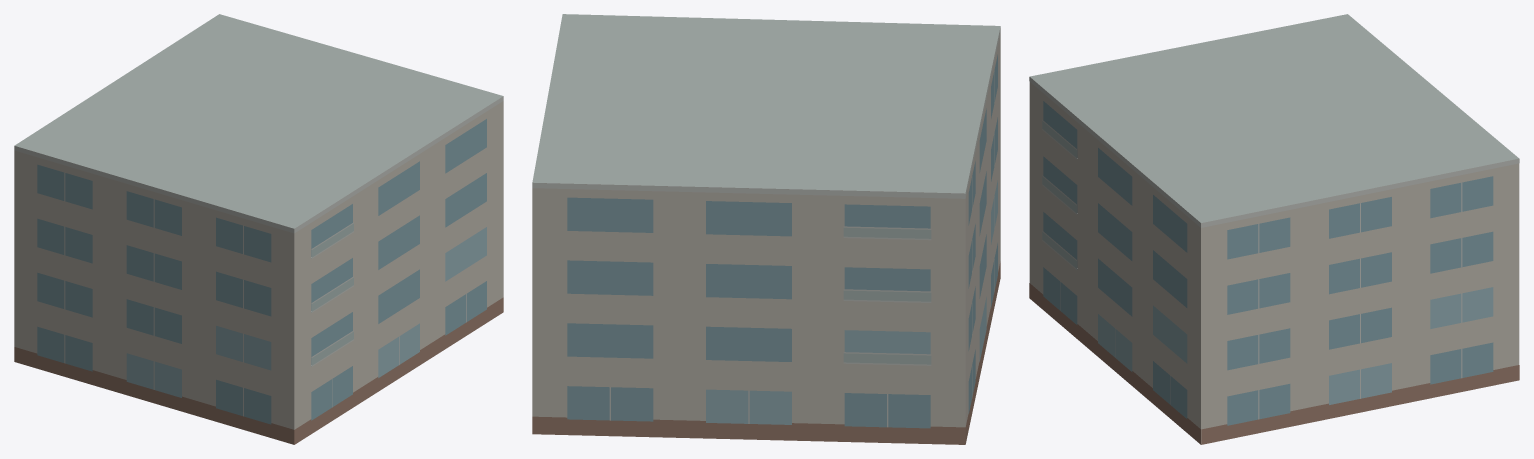
The model's file is survey-upis-32800758.glb.
The picture shows the model from 3 angles, left to right: view 1: azimuth 30°, elevation 25°; view 2: azimuth 150°, elevation 25°; view 3: azimuth 270°, elevation 25°; orthographic projection. The views are drawn at different scales.
Parts seen in each view (by area): view 1: survey-upis-32800758.tmp; view 2: survey-upis-32800758.tmp; view 3: survey-upis-32800758.tmp.
Part boxes in pixels (x1,y1,x2,y2): survey-upis-32800758.tmp: (14, 14, 503, 444); survey-upis-32800758.tmp: (532, 14, 1000, 444); survey-upis-32800758.tmp: (1029, 14, 1519, 444).
Size of the model in its own units: 22.87 by 11.3 by 22.64.
